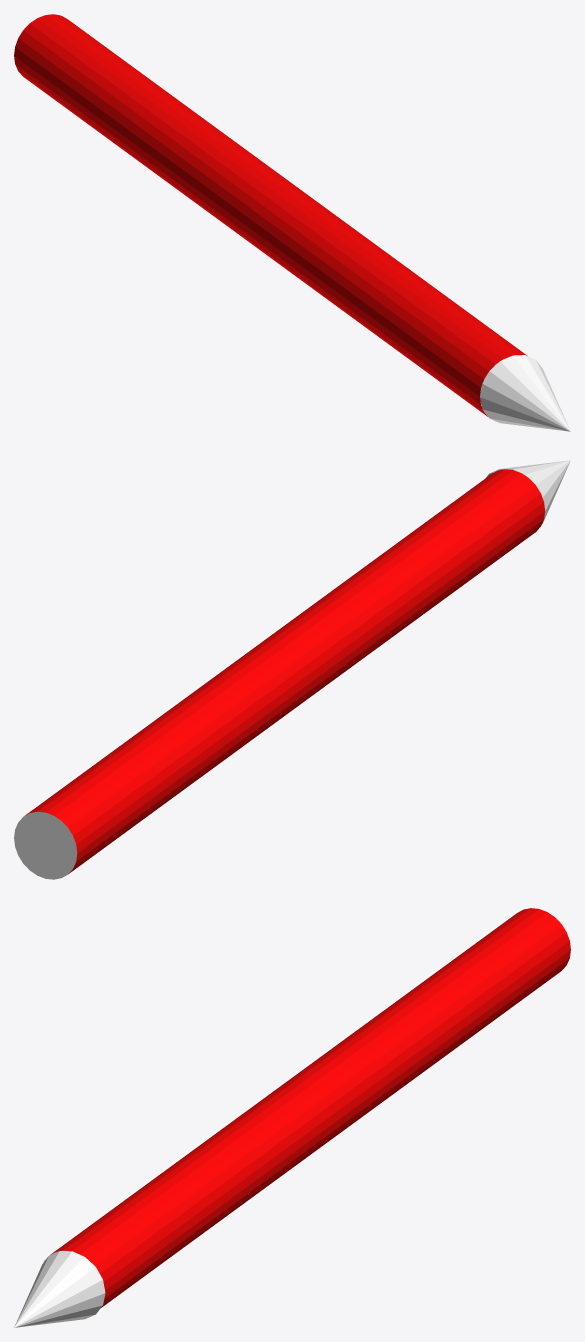
The picture shows the model from 3 angles, top to bottom: view 1: azimuth 30°, elevation 25°; view 2: azimuth 150°, elevation 25°; view 3: azimuth 330°, elevation 25°; orthographic projection.
Parts seen in each view (by area): view 1: pencil; view 2: pencil; view 3: pencil.
Boxes of the visible parts, left/top/right/bottom form: pencil: left=14, top=14, right=570, bottom=431; pencil: left=14, top=460, right=570, bottom=879; pencil: left=14, top=908, right=570, bottom=1327.
Bounding box in the file's own units: 72.05 × 70.41 × 997.
